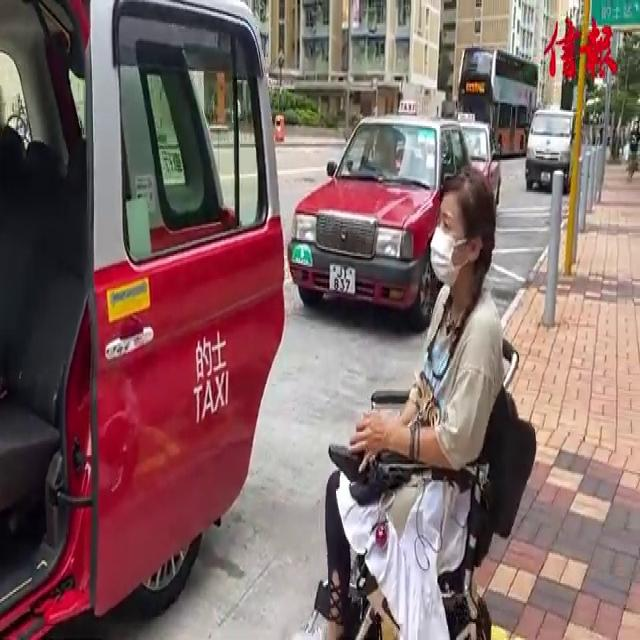wheelchairs: (299, 333, 542, 640)
